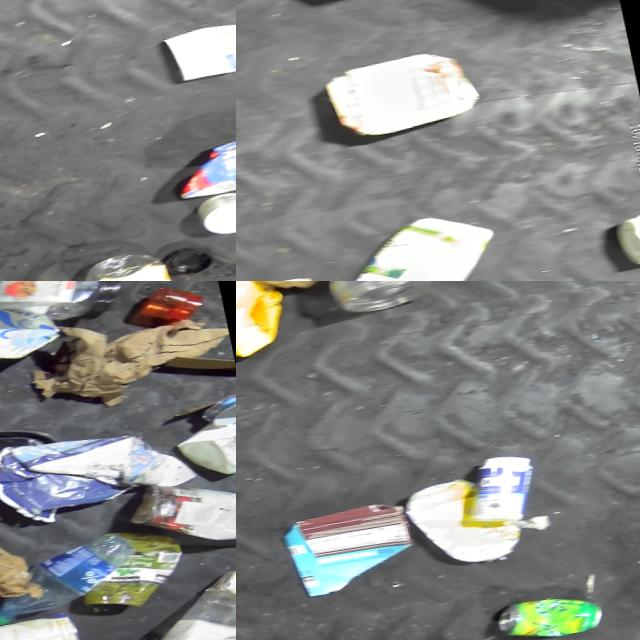can: (488, 589, 599, 640), (0, 610, 83, 640)
milk_jug: (319, 45, 483, 142)
non_white_jug: (163, 113, 236, 216)
plastic_bottle: (0, 527, 150, 626), (71, 249, 173, 281)
